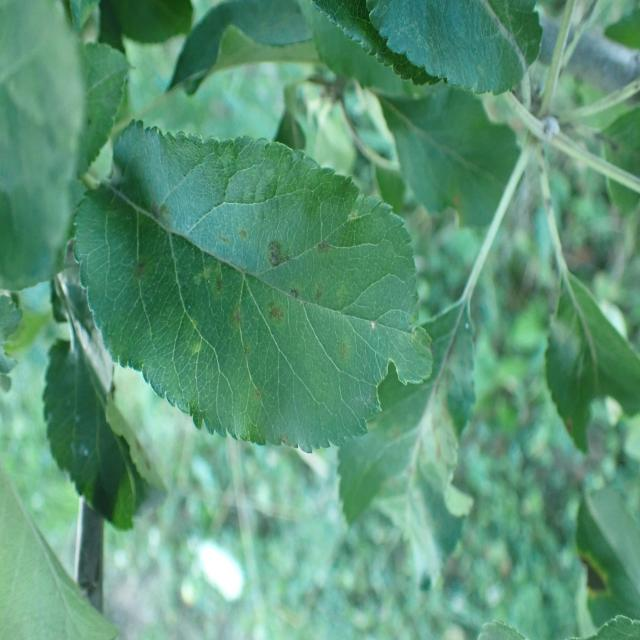scab: (92, 158, 382, 383)
